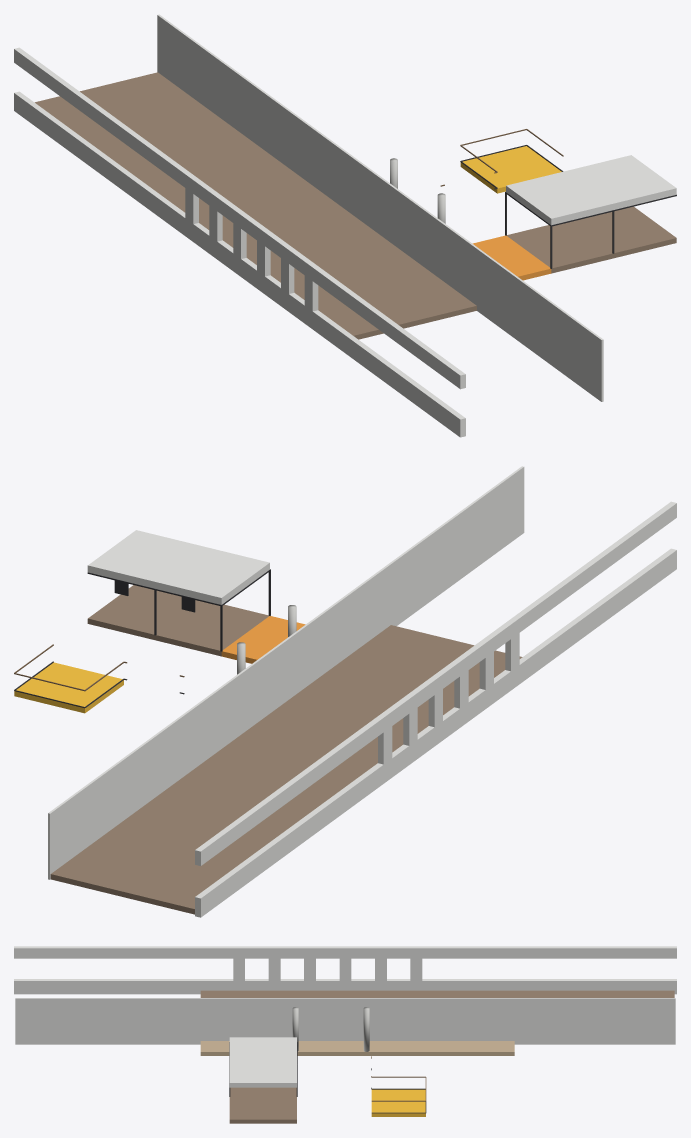
Rendered from SM_Bygg_Helgasetr_P2_V_MS.fbx.
The picture shows the model from 3 angles, top to bottom: view 1: azimuth 30°, elevation 25°; view 2: azimuth 150°, elevation 25°; view 3: azimuth 270°, elevation 25°; orthographic projection. The views are drawn at different scales.
Visible parts, largest first — view 1: SM_Bygg_Helgasetr_P2_V_MS; view 2: SM_Bygg_Helgasetr_P2_V_MS; view 3: SM_Bygg_Helgasetr_P2_V_MS.
Boxes of the visible parts, x1,y1,x2,y2 form: SM_Bygg_Helgasetr_P2_V_MS: (14, 14, 676, 437); SM_Bygg_Helgasetr_P2_V_MS: (14, 466, 676, 917); SM_Bygg_Helgasetr_P2_V_MS: (14, 946, 676, 1123).
Bounding box in the file's own units: 56.11 × 26.25 × 4.3.
